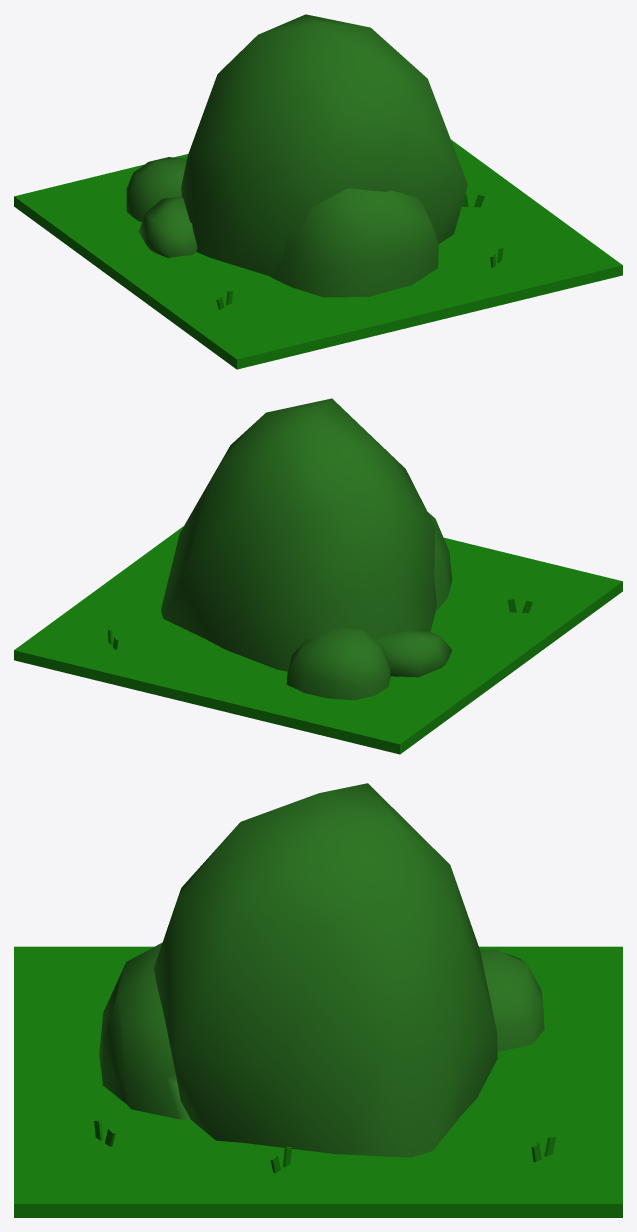
The model's file is GramaPedra.fbx.
3 views of the same model, one above another, from view 1: azimuth 30°, elevation 25°; view 2: azimuth 150°, elevation 25°; view 3: azimuth 270°, elevation 25° (orthographic). The views are drawn at different scales.
Visible parts, largest first — view 1: Vege.pedra; view 2: Vege.pedra; view 3: Vege.pedra.
Boxes of the visible parts, <box> form: Vege.pedra: <box>14,14,622,369</box>; Vege.pedra: <box>14,398,622,754</box>; Vege.pedra: <box>14,783,622,1217</box>.
Size of the model in its own units: 4 by 2.36 by 4.
